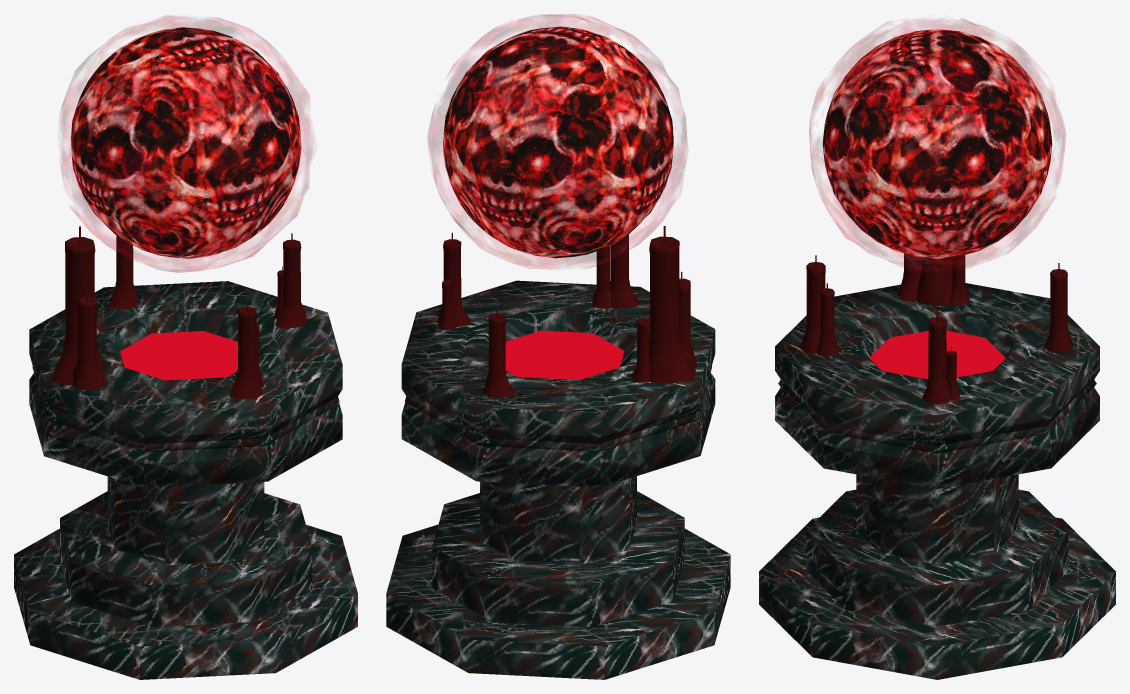
File: BLOOD_ALTAR.glb
3 renders of one model, left to right at view 1: azimuth 30°, elevation 25°; view 2: azimuth 150°, elevation 25°; view 3: azimuth 270°, elevation 25°, orthographic.
Visible parts, largest first — view 1: BLOOD_ALTAR-COL, BLOOD_CENTER, CANDLES, BLOOD_CRISTAL, BLOOD; view 2: BLOOD_ALTAR-COL, BLOOD_CENTER, CANDLES, BLOOD_CRISTAL, BLOOD; view 3: BLOOD_ALTAR-COL, BLOOD_CENTER, CANDLES, BLOOD_CRISTAL, BLOOD.
Boxes of the visible parts, <box> form: BLOOD_ALTAR-COL: <box>14,281,357,679</box>; BLOOD_CENTER: <box>70,27,301,258</box>; CANDLES: <box>52,226,306,399</box>; BLOOD_CRISTAL: <box>60,15,312,272</box>; BLOOD: <box>120,331,237,380</box>; BLOOD_ALTAR-COL: <box>386,280,730,679</box>; BLOOD_CENTER: <box>443,26,673,258</box>; CANDLES: <box>437,226,697,397</box>; BLOOD_CRISTAL: <box>427,14,687,268</box>; BLOOD: <box>505,330,624,379</box>; BLOOD_ALTAR-COL: <box>759,283,1115,679</box>; BLOOD_CENTER: <box>822,29,1052,258</box>; CANDLES: <box>800,253,1073,404</box>; BLOOD_CRISTAL: <box>809,18,1065,272</box>; BLOOD: <box>869,330,1005,378</box>.
Size of the model in its own units: 1.76 by 3.13 by 1.76.
Materials: 5 (3 with a texture image).
